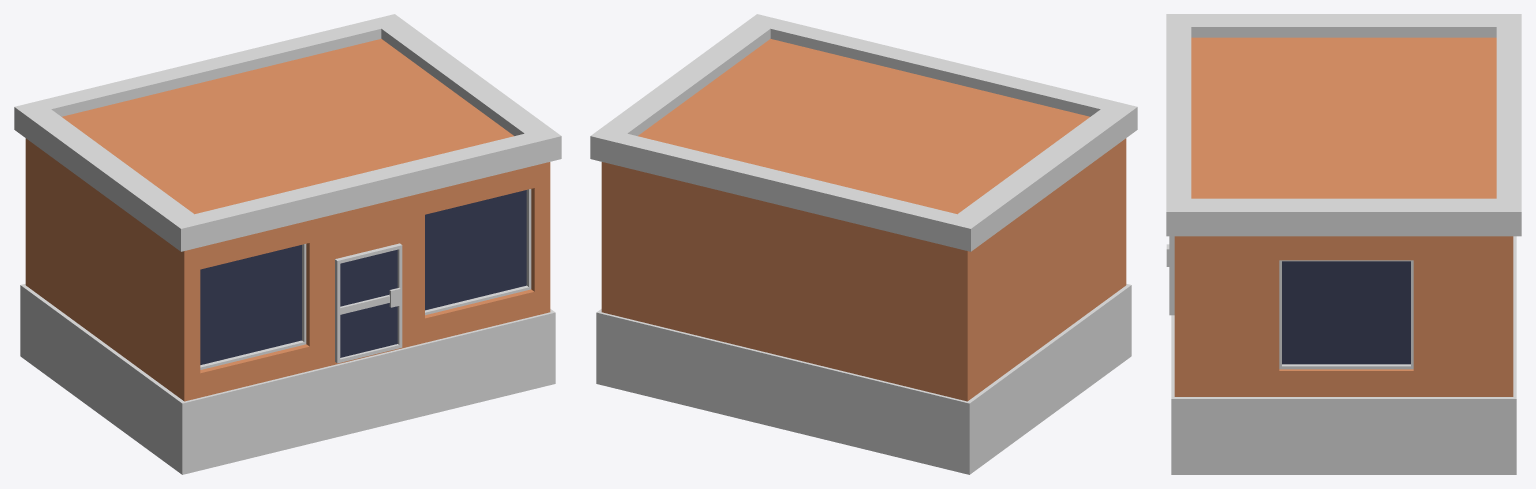
File: Lowrise_1.fbx
3 views of the same model, side by side, from view 1: azimuth 30°, elevation 25°; view 2: azimuth 150°, elevation 25°; view 3: azimuth 270°, elevation 25° (orthographic). The views are drawn at different scales.
Parts seen in each view (by area): view 1: House_1; view 2: House_1; view 3: House_1.
Part boxes in pixels (x1=…): House_1: x1=14, y1=14, x2=561, y2=474; House_1: x1=590, y1=14, x2=1137, y2=474; House_1: x1=1166, y1=14, x2=1521, y2=474.
Bounding box in the file's own units: 7.77 × 4.85 × 5.9.
